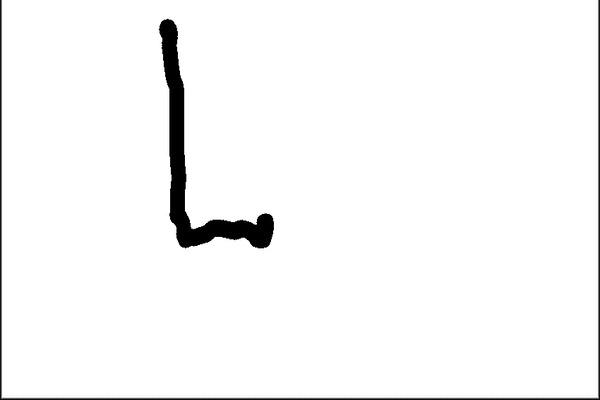L: (149, 12, 284, 254)
